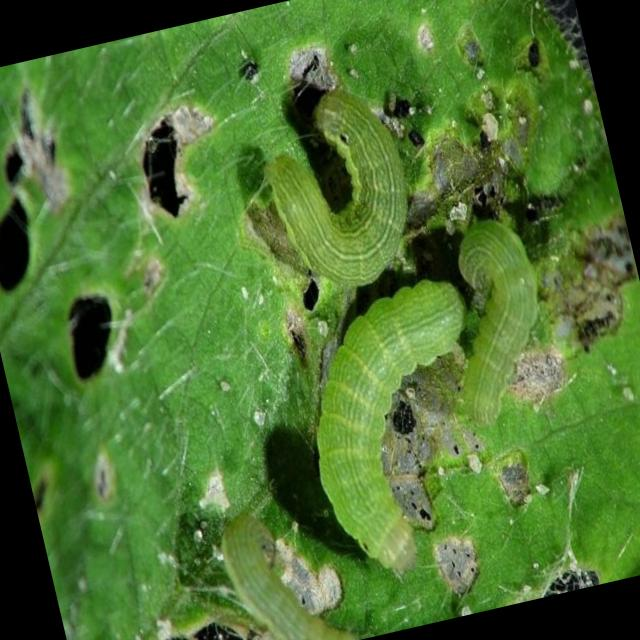Armyworm: (272, 256, 527, 595), (422, 190, 614, 444), (248, 80, 446, 307), (177, 481, 392, 640)
Armyworm_damage: (94, 69, 248, 277), (34, 257, 162, 415), (1, 80, 94, 240), (1, 184, 74, 304), (513, 33, 567, 79)
